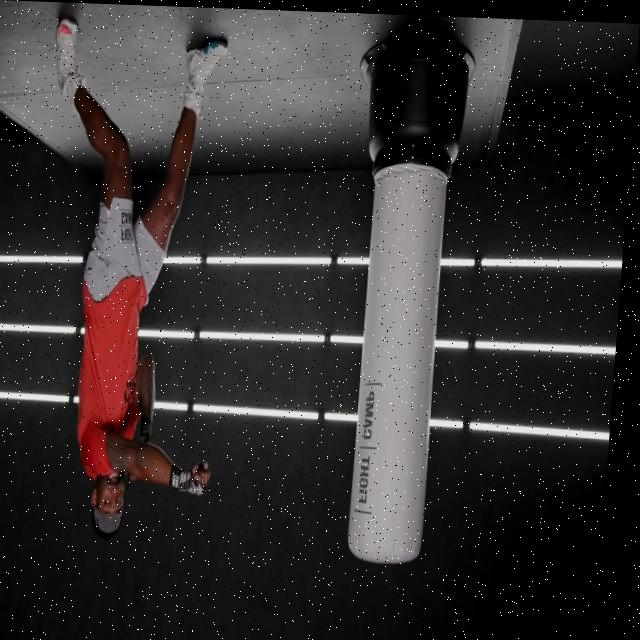Cross: (18, 14, 264, 508)
